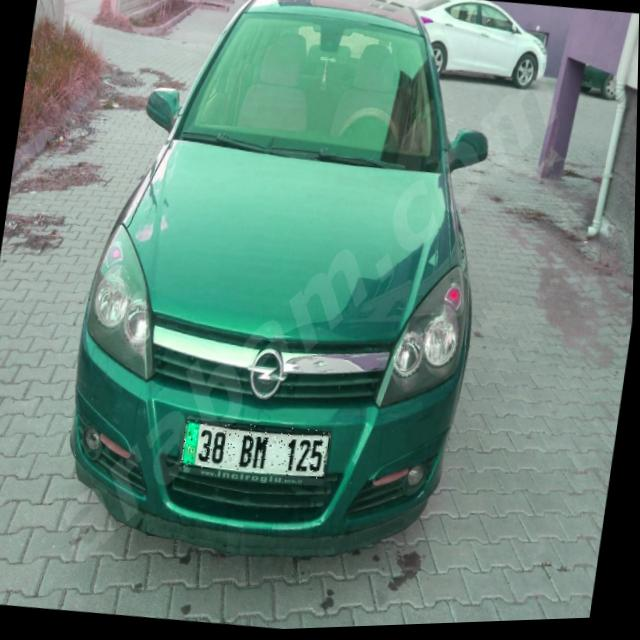license_plate: (180, 416, 333, 486)
